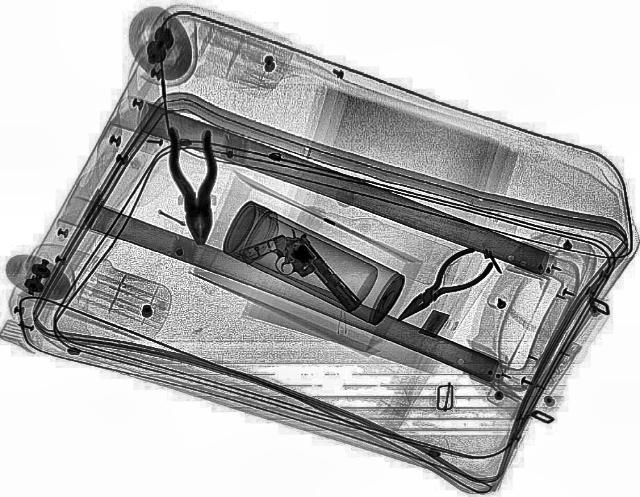Gun: (238, 222, 362, 334)
Pliers: (380, 244, 500, 332), (162, 124, 225, 246)
